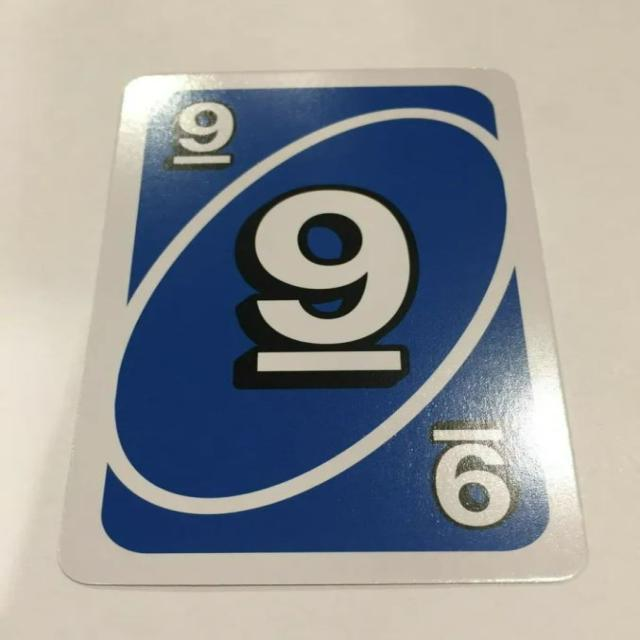Blue_Card: (98, 79, 555, 573)
Number_9: (164, 96, 240, 175)
